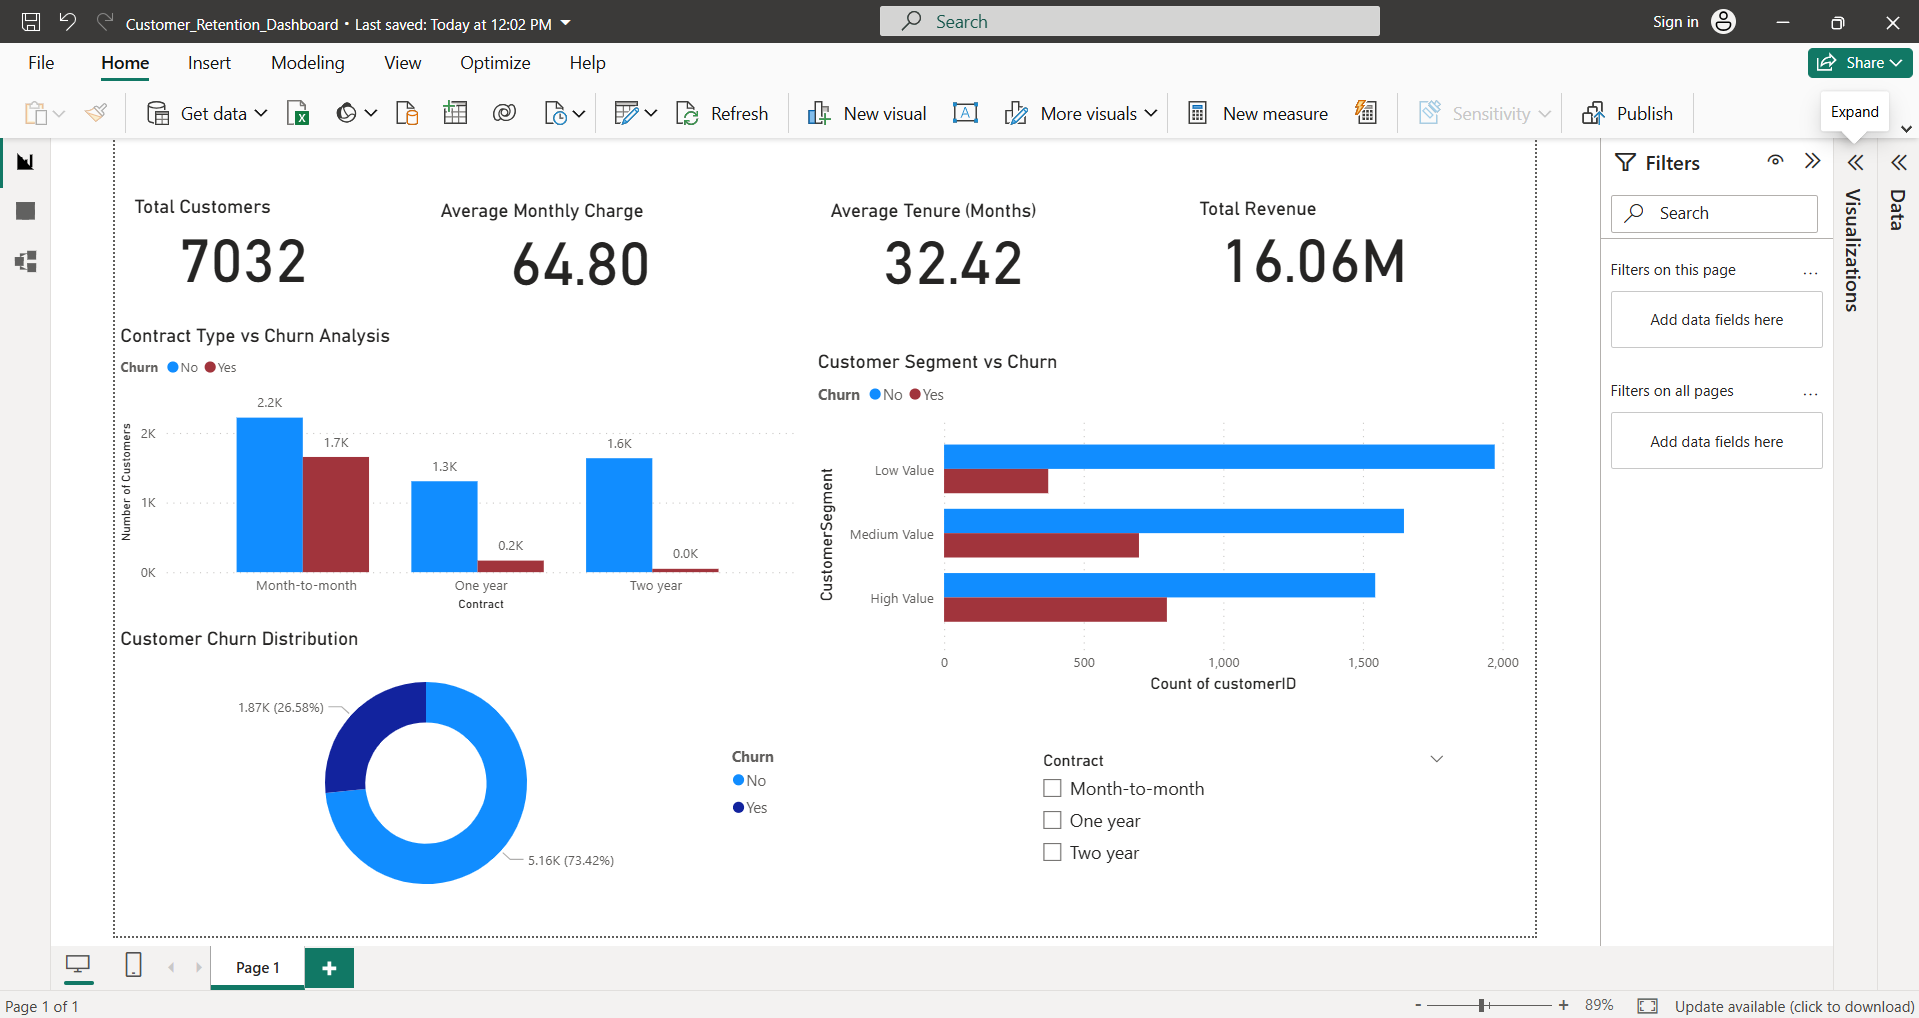

The page's visual inventory and layout, read from the dashboard file:
{"tool":"powerbi","page":{"name":"Page 1","canvas":[1280,720],"ordinal":0},"visuals":[{"type":"card","title":"Total Customers","fields":{"Values":["CountNonNull(cleaned_customer_data.customerID)"]},"box":[12.3,52.1,205.8,85.1],"z":0},{"type":"card","title":"Average Monthly Charge","fields":{"Values":["Avg(cleaned_customer_data.MonthlyCharges)"]},"box":[288.2,54.9,262.1,83.7],"z":1000},{"type":"card","title":"Average Tenure (Months)","fields":{"Values":["Avg(cleaned_customer_data.tenure)"]},"box":[639.5,54.9,231.9,82.3],"z":2000},{"type":"card","title":"Total Revenue","fields":{"Values":["Sum(cleaned_customer_data.TotalCharges)"]},"box":[972.9,53.5,215.4,83.7],"z":3000},{"type":"clusteredColumnChart","title":"Contract Type vs Churn Analysis","fields":{"Category":["cleaned_customer_data.Contract"],"Y":["CountNonNull(cleaned_customer_data.customerID)"],"Series":["cleaned_customer_data.Churn"]},"box":[0,167.4,618.9,263.5],"z":4000},{"type":"clusteredBarChart","title":"Customer Segment vs Churn","fields":{"Category":["cleaned_customer_data.CustomerSegment"],"Y":["CountNonNull(cleaned_customer_data.customerID)"],"Series":["cleaned_customer_data.Churn"]},"box":[628.5,192.1,642.2,312.9],"z":5000},{"type":"donutChart","title":"Customer Churn Distribution","fields":{"Category":["cleaned_customer_data.Churn"],"Y":["CountNonNull(cleaned_customer_data.customerID)"]},"box":[0,440,619,263],"z":5001},{"type":"slicer","fields":{"Values":["cleaned_customer_data.Contract"]},"box":[823.3,547.5,387,131.7],"z":5002}]}

Visuals, with their boxes on the page's 1280x720 design canvas (x1, y1, x2, y2). These are canvas units, not pixel positions in the 1919x1018 screenshot, which may show the page scaled, cropped or inside an application window:
"Total Customers" card: bbox=(12, 52, 218, 137)
"Average Monthly Charge" card: bbox=(288, 55, 550, 139)
"Average Tenure (Months)" card: bbox=(640, 55, 871, 137)
"Total Revenue" card: bbox=(973, 54, 1188, 137)
"Contract Type vs Churn Analysis" clusteredColumnChart: bbox=(0, 167, 619, 431)
"Customer Segment vs Churn" clusteredBarChart: bbox=(628, 192, 1271, 505)
"Customer Churn Distribution" donutChart: bbox=(0, 440, 619, 703)
slicer - cleaned_customer_data.Contract: bbox=(823, 548, 1210, 679)
